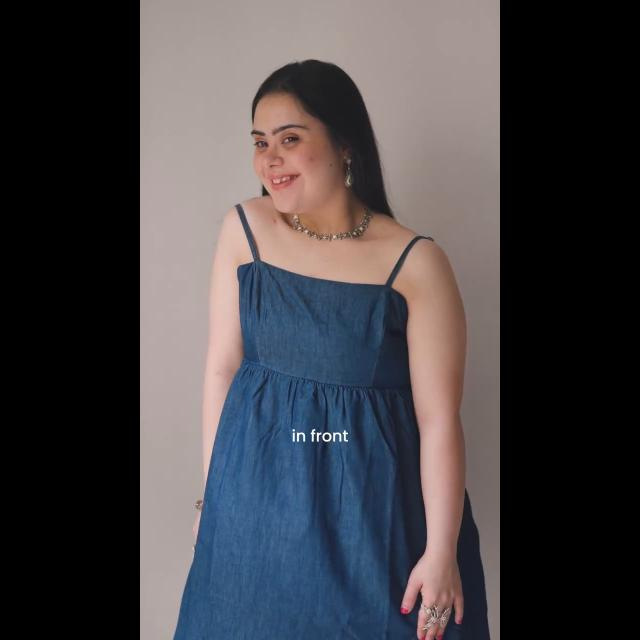dress: (200, 196, 490, 640)
ear ring: (343, 152, 357, 194)
